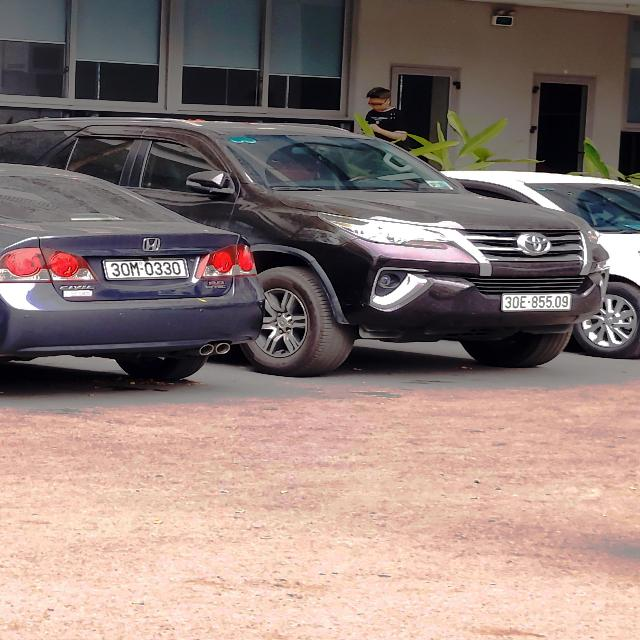license_plate: (106, 259, 187, 281), (503, 294, 574, 311)
